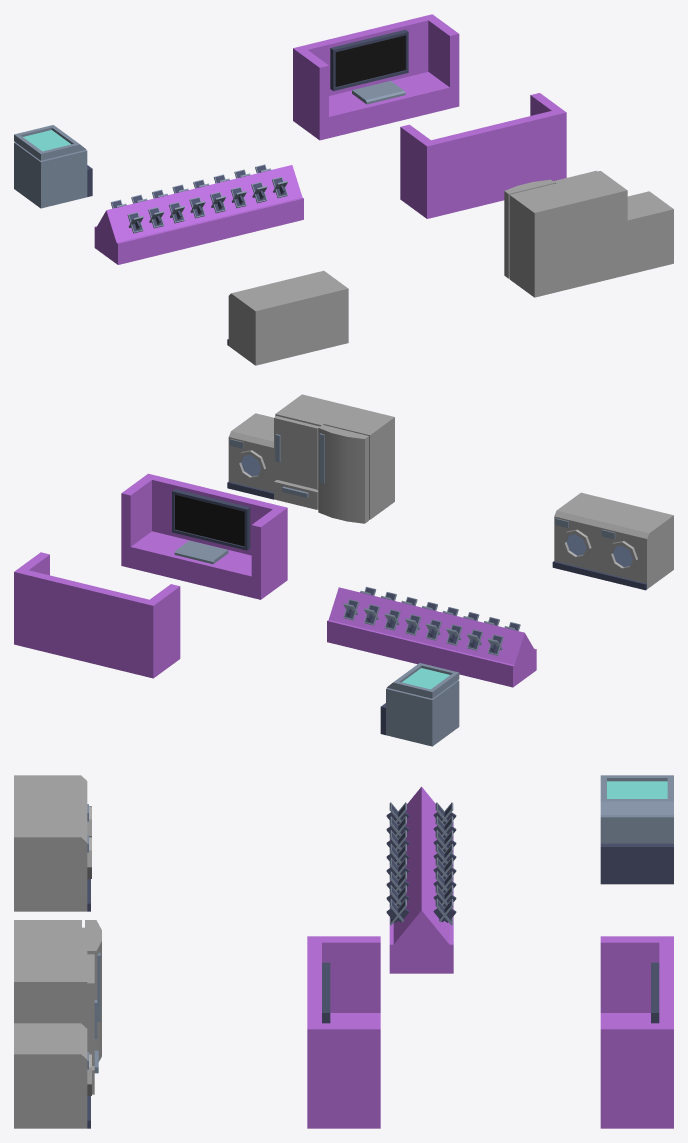
The model's file is Electronics_shop_platform.fbx.
3 views of the same model, one above another, from view 1: azimuth 30°, elevation 25°; view 2: azimuth 150°, elevation 25°; view 3: azimuth 270°, elevation 25° (orthographic). The views are drawn at different scales.
Visible parts, largest first — view 1: Cube.238, Cube.249, Cube.230, Cube.240, Cube.233, Cube.250, Cube.228, Cube.242, Cube.236, Cube.243, Cube.229, Cube.252 (+2 smaller); view 2: Cube.240, Cube.249, Cube.230, Cube.238, Cube.228, Cube.250, Cube.233, Cube.244, Cube.236, Cube.245, Cube.229, Cube.251 (+2 smaller); view 3: Cube.238, Cube.240, Cube.250, Cube.229, Cube.236, Cube.249, Cube.233, Cube.230, Cube.228, Cube.251, Cube.252, Cube.244 (+3 smaller).
Part boxes in pixels (<box>): Cube.238: <box>400,93,566,218</box>; Cube.249: <box>94,165,303,264</box>; Cube.230: <box>504,179,580,297</box>; Cube.240: <box>293,14,459,140</box>; Cube.233: <box>553,170,627,286</box>; Cube.250: <box>14,125,92,208</box>; Cube.228: <box>227,282,301,365</box>; Cube.242: <box>329,72,449,138</box>; Cube.236: <box>278,270,348,354</box>; Cube.243: <box>330,29,408,90</box>; Cube.229: <box>627,191,673,274</box>; Cube.252: <box>127,177,287,233</box>; Cube.240: <box>14,552,180,678</box>; Cube.249: <box>327,587,536,687</box>; Cube.230: <box>318,405,394,523</box>; Cube.238: <box>121,473,287,599</box>; Cube.228: <box>599,504,673,590</box>; Cube.250: <box>380,663,459,746</box>; Cube.233: <box>274,394,347,509</box>; Cube.244: <box>130,531,251,597</box>; Cube.236: <box>552,492,626,578</box>; Cube.245: <box>172,489,250,550</box>; Cube.229: <box>227,413,275,499</box>; Cube.251: <box>343,599,503,655</box>; Cube.238: <box>307,936,380,1128</box>; Cube.240: <box>600,936,673,1128</box>; Cube.250: <box>600,775,673,884</box>; Cube.229: <box>14,1023,91,1128</box>; Cube.236: <box>14,806,91,911</box>; Cube.249: <box>389,786,453,973</box>; Cube.233: <box>14,951,94,1094</box>; Cube.230: <box>14,920,101,1061</box>; Cube.228: <box>14,775,91,836</box>; Cube.251: <box>433,802,456,925</box>; Cube.252: <box>386,802,409,925</box>; Cube.244: <box>330,1013,380,1023</box>.
Size of the model in its own units: 900 by 174 by 900.
